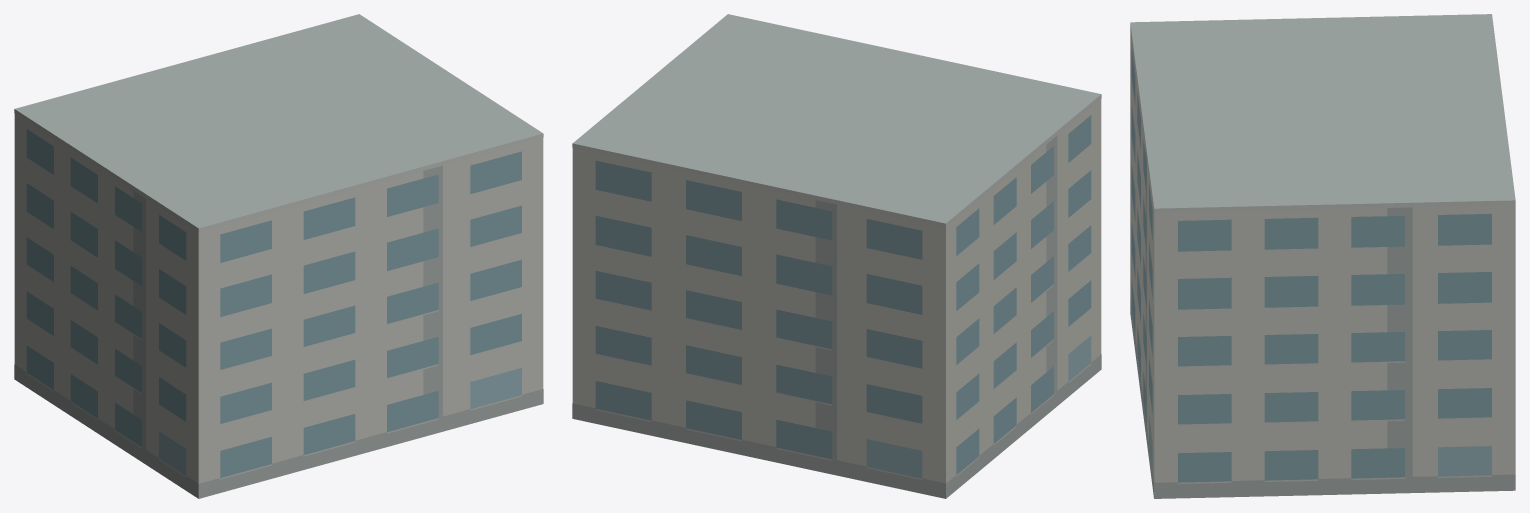
Rendered from residential-fb5cbe82-3b01-4bbc-a372-619e53666e63.glb.
The picture shows the model from 3 angles, left to right: view 1: azimuth 30°, elevation 25°; view 2: azimuth 150°, elevation 25°; view 3: azimuth 270°, elevation 25°; orthographic projection. The views are drawn at different scales.
Parts seen in each view (by area): view 1: residential-fb5cbe82-3b01-4bbc-a372-619e53666e63.tmp; view 2: residential-fb5cbe82-3b01-4bbc-a372-619e53666e63.tmp; view 3: residential-fb5cbe82-3b01-4bbc-a372-619e53666e63.tmp.
Boxes of the visible parts, x1,y1,x2,y2 form: residential-fb5cbe82-3b01-4bbc-a372-619e53666e63.tmp: [14, 14, 543, 498]; residential-fb5cbe82-3b01-4bbc-a372-619e53666e63.tmp: [572, 14, 1101, 498]; residential-fb5cbe82-3b01-4bbc-a372-619e53666e63.tmp: [1130, 14, 1515, 498].
Size of the model in its own units: 21.93 by 15.25 by 18.36.
